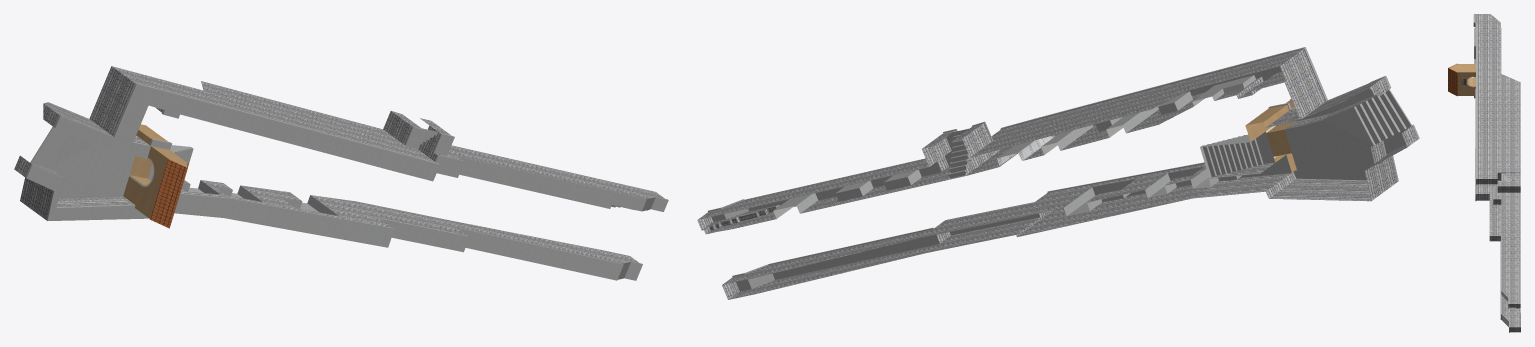
Rendered from Harju-tn_Noelasilm.obj.
The picture shows the model from 3 angles, left to right: view 1: azimuth 30°, elevation 25°; view 2: azimuth 150°, elevation 25°; view 3: azimuth 270°, elevation 25°; orthographic projection. The views are drawn at different scales.
Visible parts, largest first — view 1: Harju_noelasilm; view 2: Harju_noelasilm; view 3: Harju_noelasilm.
Boxes of the visible parts, bbox=[...] form: Harju_noelasilm: bbox=[14, 66, 668, 280]; Harju_noelasilm: bbox=[697, 47, 1419, 299]; Harju_noelasilm: bbox=[1448, 14, 1520, 332].
Bounding box in the file's own units: 42.82 × 21.22 × 8.
